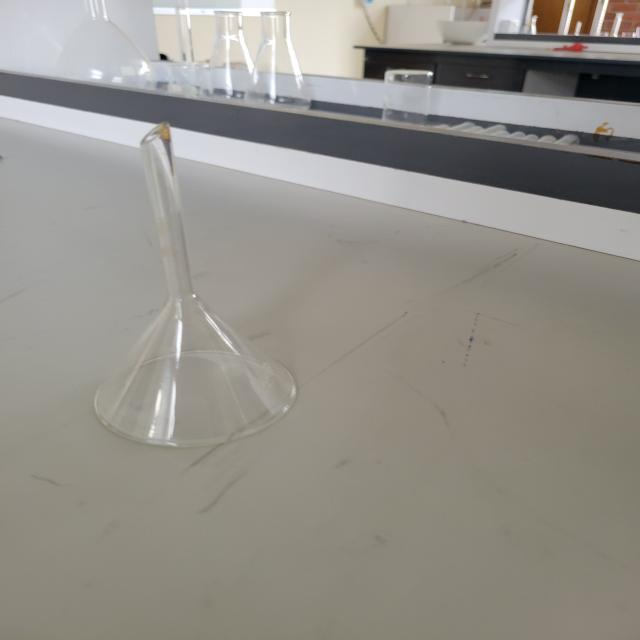Funnel: (64, 102, 313, 473)
